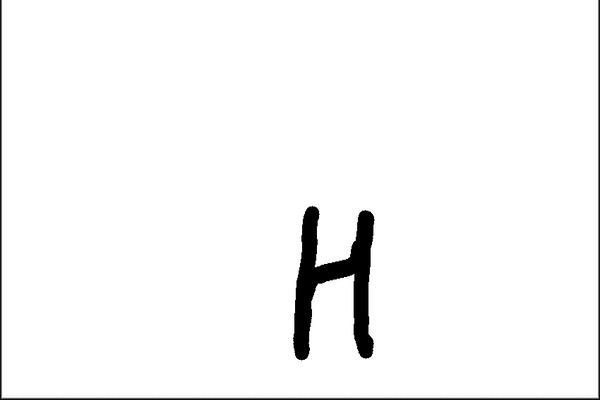H: (286, 198, 378, 366)
